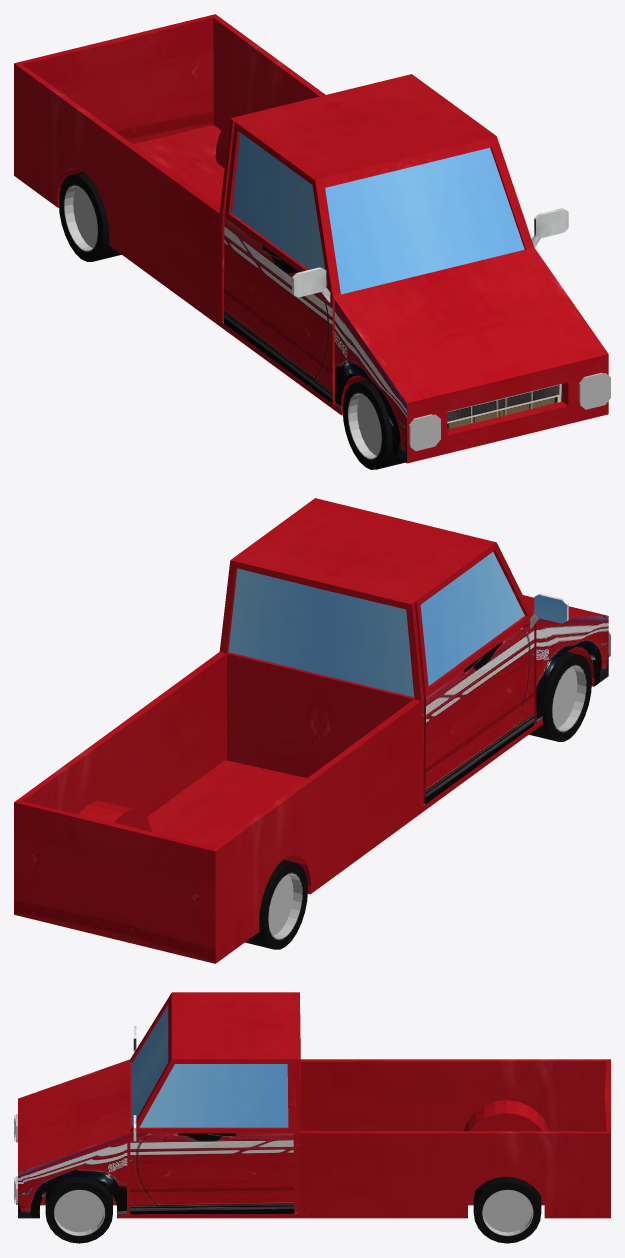
The model's file is pick up3 kebalik.fbx.
3 views of the same model, one above another, from view 1: azimuth 30°, elevation 25°; view 2: azimuth 150°, elevation 25°; view 3: azimuth 270°, elevation 25° (orthographic). The views are drawn at different scales.
Parts seen in each view (by area): view 1: body.001, bak belakang, roda, lampu depan, spion; view 2: body.001, bak belakang, roda, spion; view 3: body.001, bak belakang, roda.
Boxes of the visible parts, x1,y1,x2,y2 form: body.001: [219, 74, 608, 463]; bak belakang: [14, 14, 325, 325]; roda: [58, 172, 405, 469]; lampu depan: [409, 372, 610, 451]; spion: [292, 208, 568, 302]; body.001: [219, 498, 608, 812]; bak belakang: [14, 652, 421, 963]; roda: [245, 652, 591, 949]; spion: [530, 593, 568, 628]; body.001: [18, 992, 300, 1218]; bak belakang: [300, 1059, 610, 1218]; roda: [45, 1176, 541, 1243].
Size of what is drawn, in the model's own units: 249 by 207 by 621.
